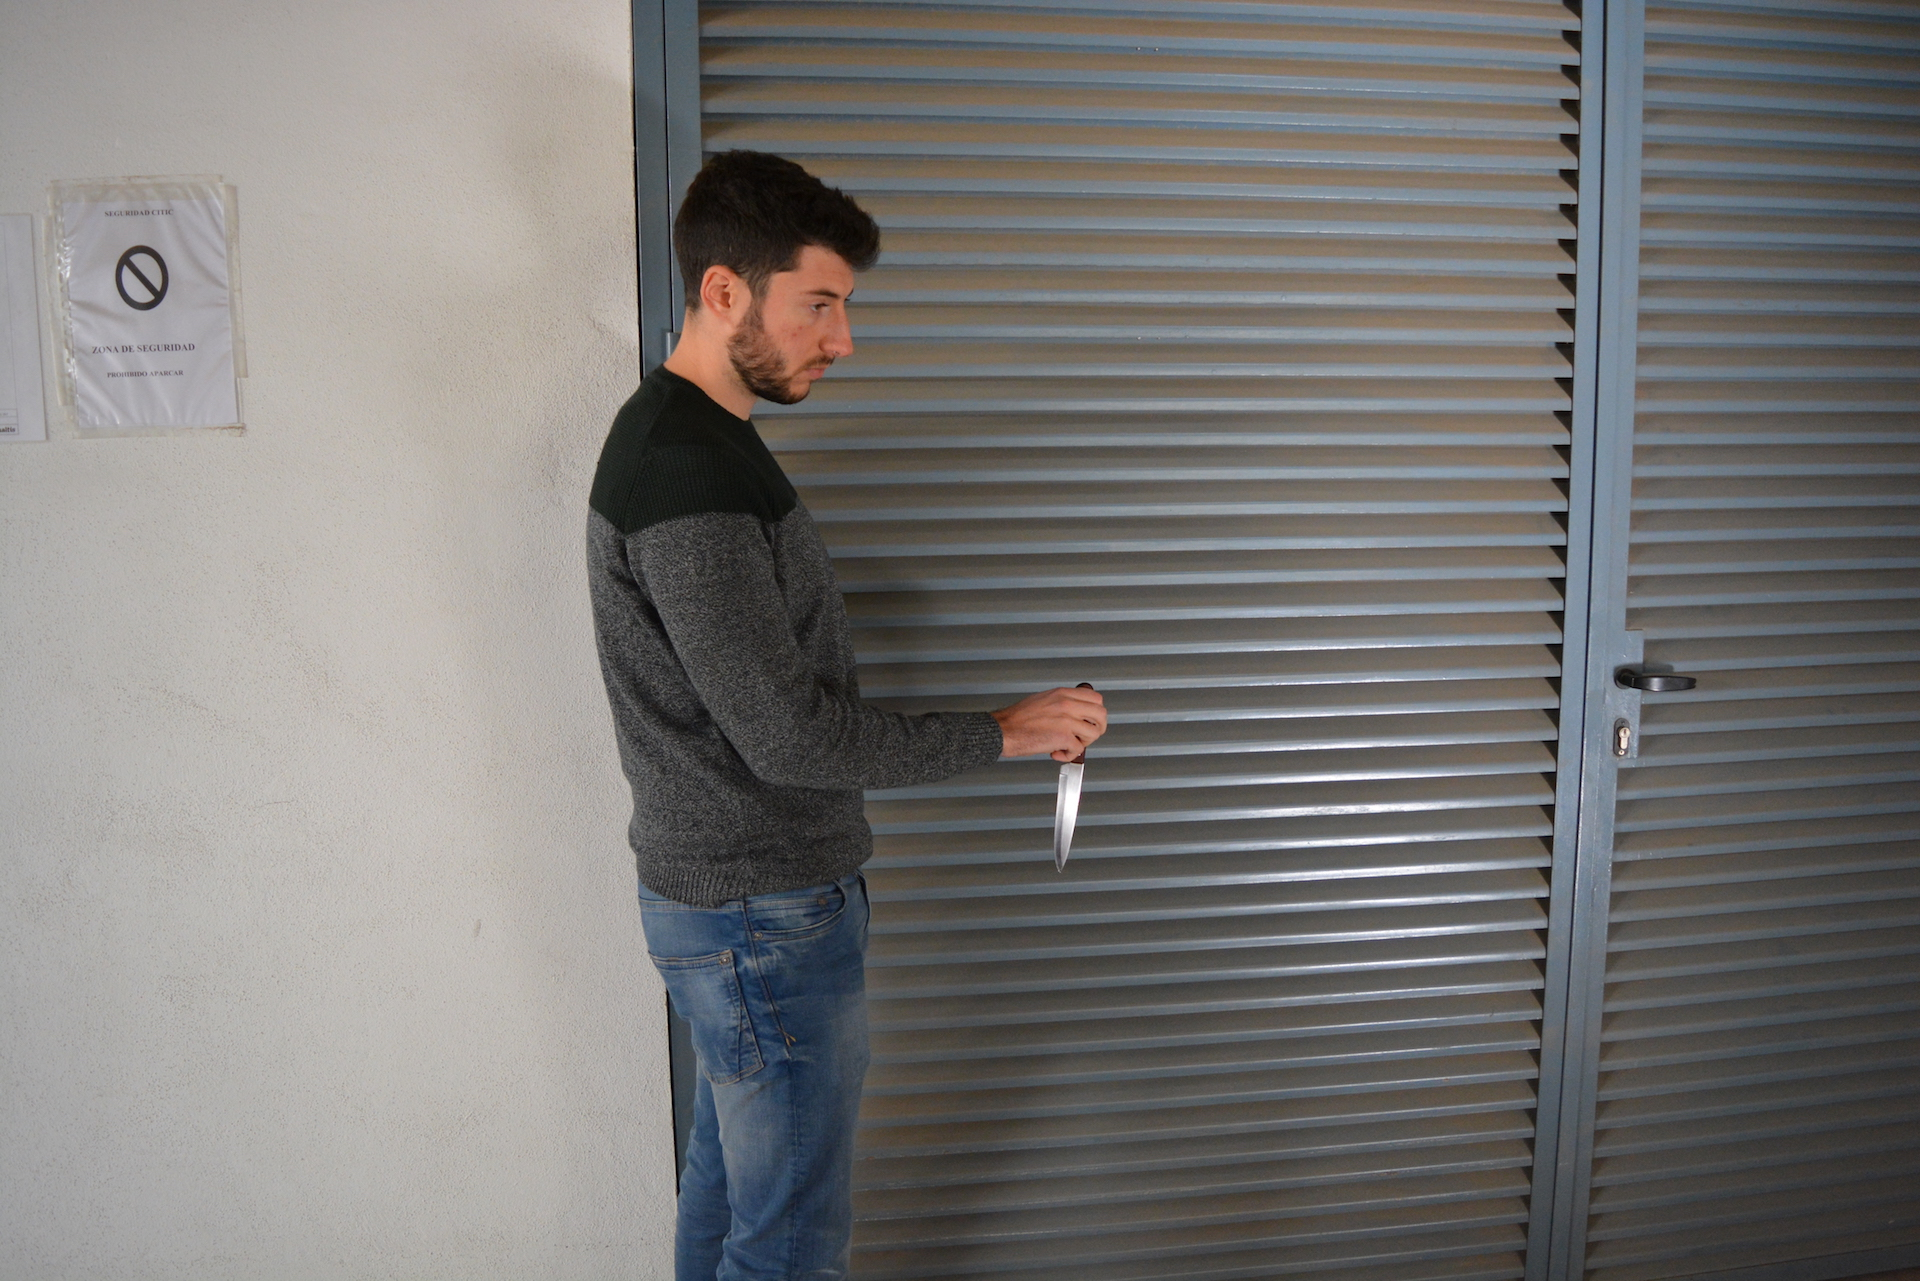knife: (1039, 672, 1114, 881)
